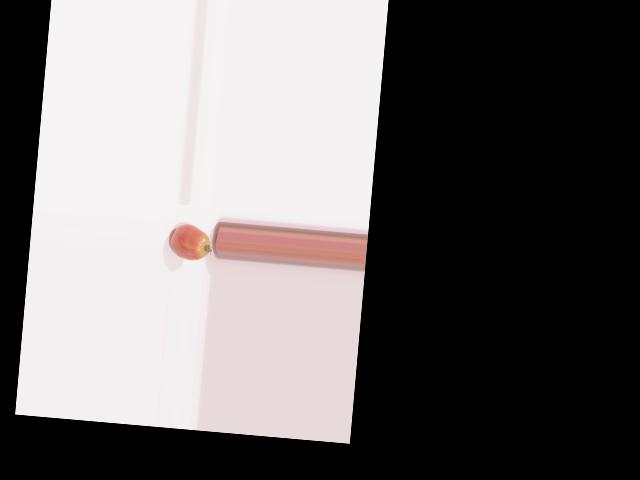tomato: (169, 222, 212, 261)
